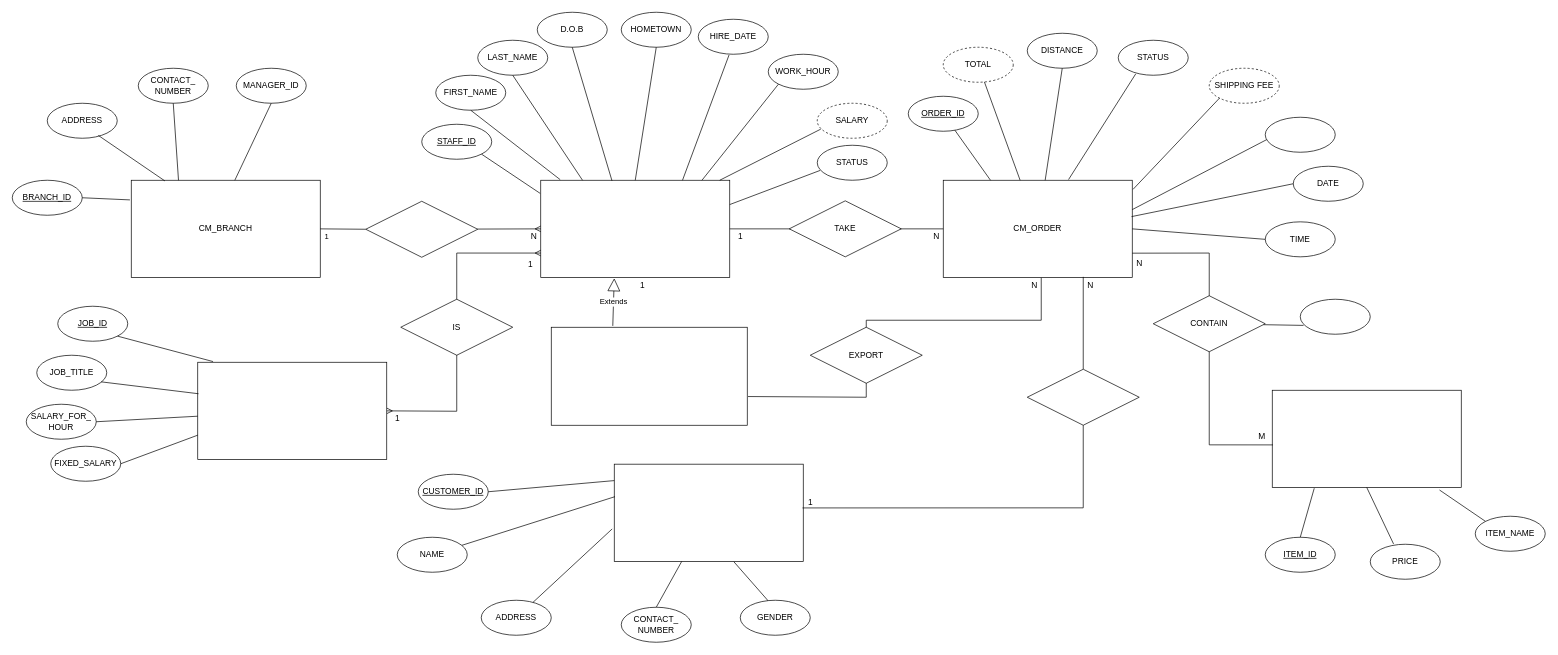
Image size: 1558x655. Some labels were removed from this diagram. The shapes that lost their labels are listed below. From the top down, each one's centre as x and y in pixels, then its label:
(x=1300, y=134): DISCOUNT
(x=421, y=229): WORKAT
(x=635, y=228): CM_STAFF
(x=1335, y=316): QUANTITY
(x=649, y=376): CASHIER
(x=292, y=410): CM_JOB
(x=1083, y=397): PLACE
(x=1366, y=438): CM_ITEM
(x=708, y=512): CM_CUSTOMER
